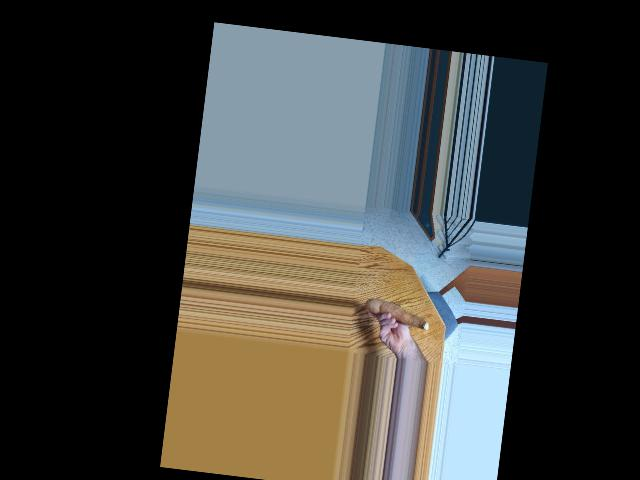sweet_potato: (366, 294, 433, 332)
